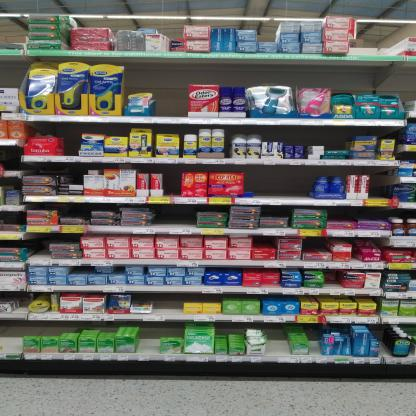Void: (258, 166, 314, 195), (285, 126, 346, 146), (152, 205, 194, 227), (330, 208, 388, 223), (158, 85, 185, 117), (5, 322, 63, 336), (369, 166, 392, 196), (266, 327, 286, 356), (165, 164, 182, 196), (26, 234, 47, 258), (360, 127, 408, 137), (155, 296, 182, 312), (140, 324, 176, 336), (63, 122, 75, 155), (63, 162, 81, 184), (216, 322, 244, 335), (308, 327, 320, 354), (304, 237, 327, 251), (1, 340, 25, 353), (63, 202, 84, 216), (137, 339, 159, 352), (266, 205, 290, 216), (252, 236, 276, 247), (326, 272, 343, 286), (380, 328, 388, 356), (52, 233, 76, 242), (34, 202, 56, 211), (200, 205, 226, 212), (92, 202, 113, 210), (72, 268, 95, 274)
